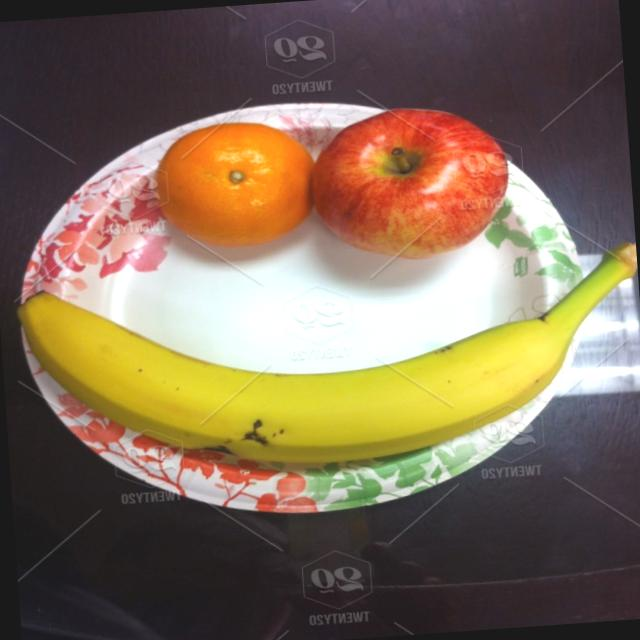apple: (306, 96, 510, 276)
banana: (20, 255, 578, 482)
orange: (149, 114, 324, 270)
